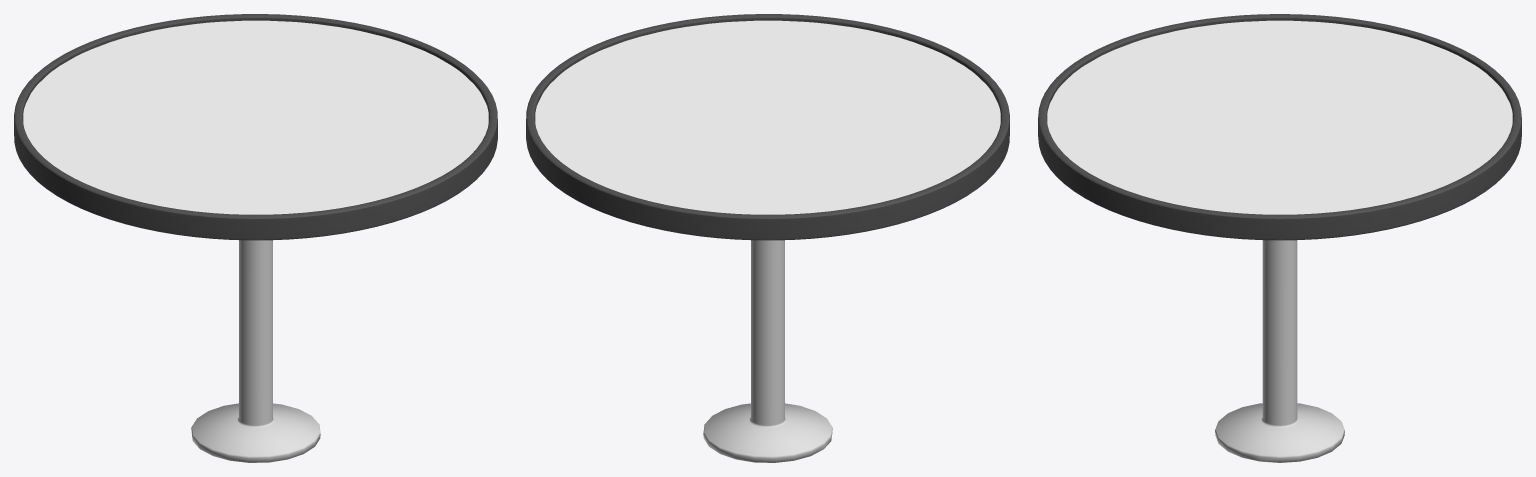
The model's file is zhouzi(2).fbx.
3 renders of one model, left to right at view 1: azimuth 30°, elevation 25°; view 2: azimuth 150°, elevation 25°; view 3: azimuth 270°, elevation 25°, orthographic.
Visible parts, largest first — view 1: polySurface2; view 2: polySurface2; view 3: polySurface2.
Boxes of the visible parts, x1,y1,x2,y2 form: polySurface2: (14, 14, 497, 462); polySurface2: (526, 14, 1009, 462); polySurface2: (1038, 14, 1521, 462).
Bounding box in the file's own units: 34.69 × 25.37 × 34.69.
1 material, 1 textured.
